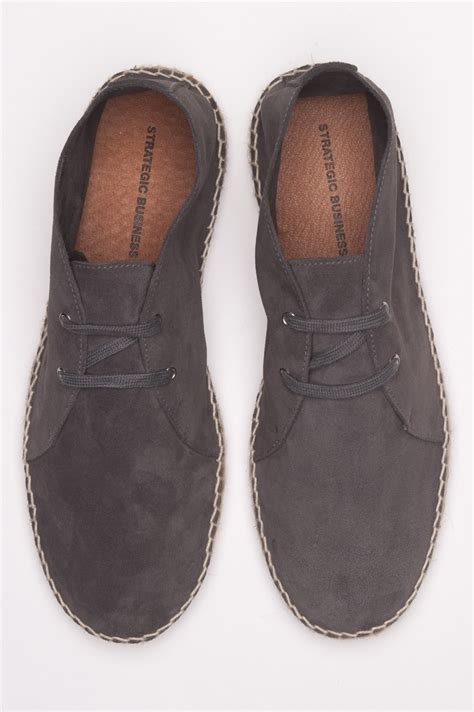gamuza: (23, 70, 445, 640)
